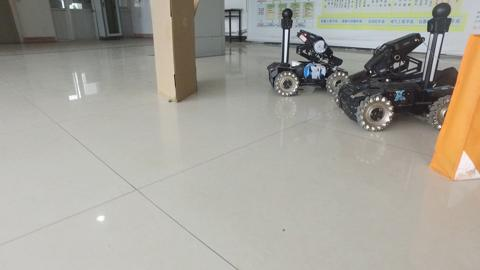chariot: (333, 6, 458, 128), (271, 9, 341, 95)
